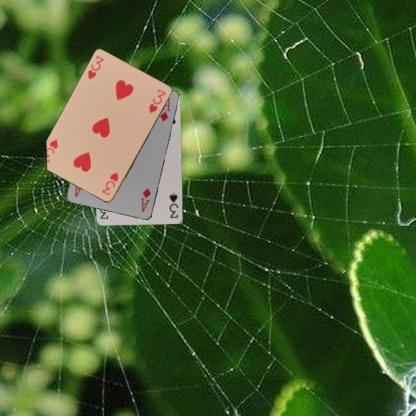3h: (100, 170, 120, 197), (85, 54, 105, 80)
3s: (168, 191, 180, 220)
Ad: (138, 185, 153, 214)
